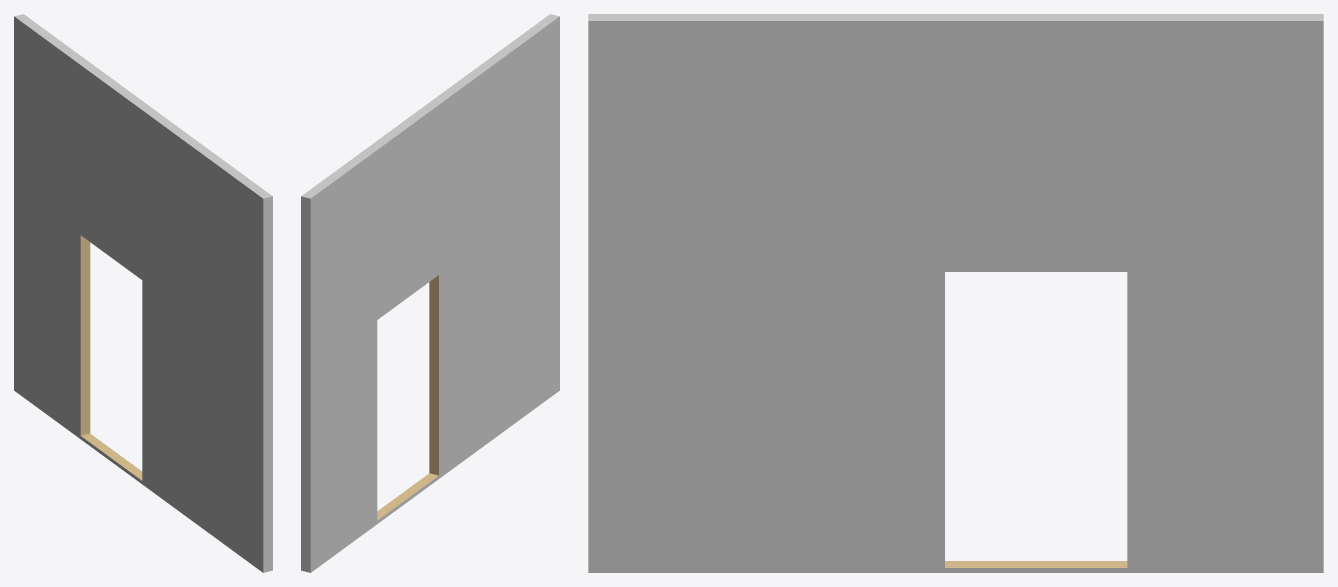
Rendered from wall4 (2).fbx.
3 renders of one model, left to right at view 1: azimuth 30°, elevation 25°; view 2: azimuth 150°, elevation 25°; view 3: azimuth 270°, elevation 25°, orthographic. The views are drawn at different scales.
Visible parts, largest first — view 1: Boole_3; view 2: Boole_3; view 3: Boole_3.
Boxes of the visible parts, x1,y1,x2,y2 form: Boole_3: [14, 14, 272, 572]; Boole_3: [301, 14, 559, 572]; Boole_3: [588, 14, 1323, 572].
Size of the model in its own units: 11.88 by 442 by 534.
